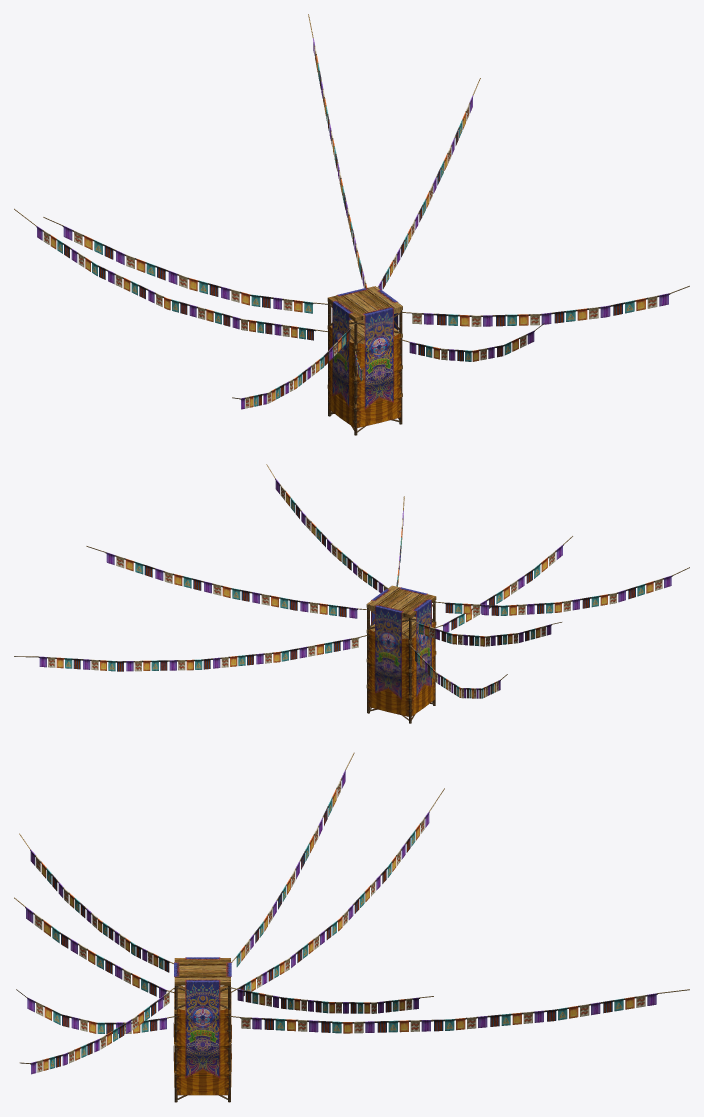
The model's file is tower_03.dae.
3 views of the same model, one above another, from view 1: azimuth 30°, elevation 25°; view 2: azimuth 150°, elevation 25°; view 3: azimuth 270°, elevation 25° (orthographic). The views are drawn at different scales.
Parts seen in each view (by area): view 1: tower_03; view 2: tower_03; view 3: tower_03.
Part boxes in pixels (bbox=[...]): tower_03: bbox=[14, 14, 689, 435]; tower_03: bbox=[14, 464, 689, 723]; tower_03: bbox=[14, 752, 689, 1102].
Size of the model in its own units: 13.62 by 16.11 by 5.63.
5 materials, 5 textured.
